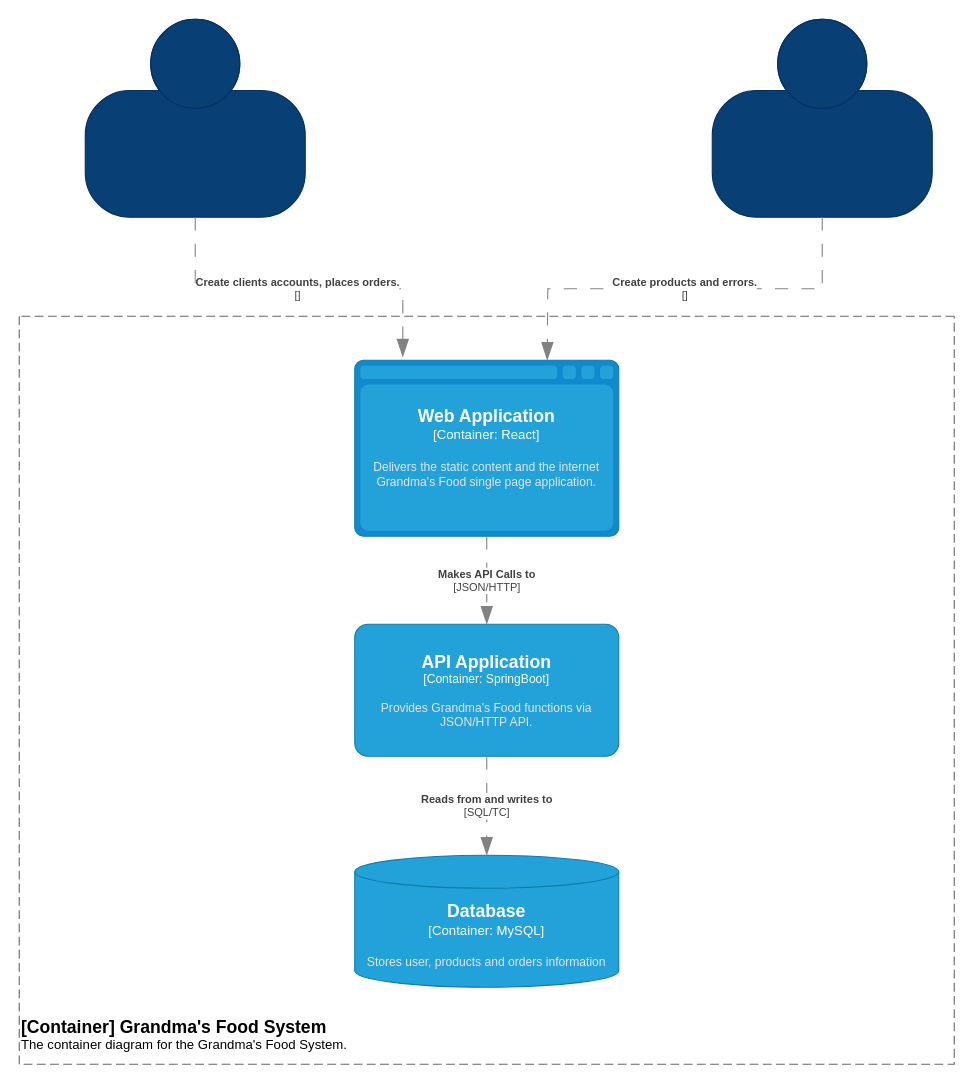
Image size: 974x1084. Some labels were removed from this diagram. The centre of each missing label's shape, as x and y in pixels:
"Grandma's Food Administrator [Person] A administrator of the restaurant." goes at point 821,117.
"Grandma's Food Customer [Person] A customer of the restaurant." goes at point 194,117.
